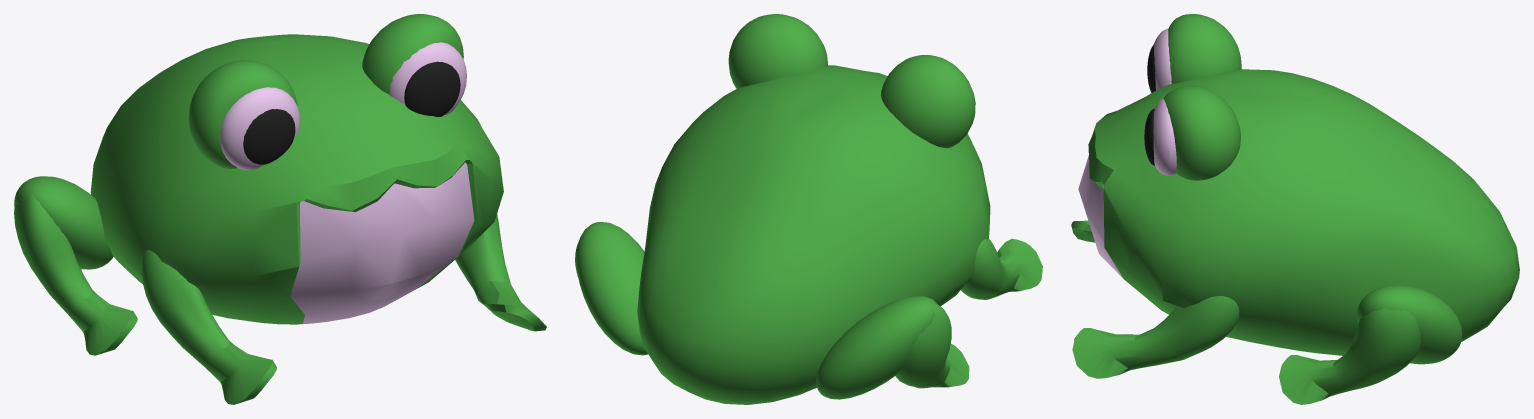
File: nisakurbik 1.fbx
The picture shows the model from 3 angles, left to right: view 1: azimuth 30°, elevation 25°; view 2: azimuth 150°, elevation 25°; view 3: azimuth 270°, elevation 25°; orthographic projection. The views are drawn at different scales.
Visible parts, largest first — view 1: Sphere; view 2: Sphere; view 3: Sphere.
Part boxes in pixels (box(x1,y1,x2,y2)): Sphere: box(14, 14, 546, 404); Sphere: box(575, 14, 1042, 404); Sphere: box(1071, 14, 1519, 404).
Bounding box in the file's own units: 273 × 206 × 291.
